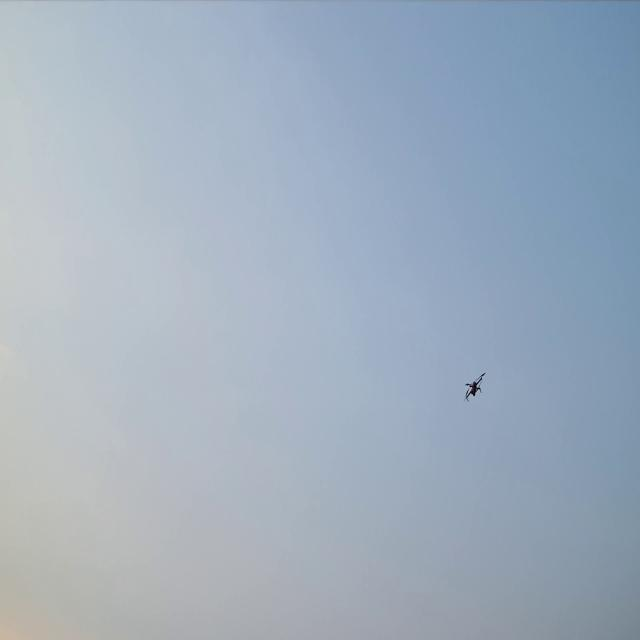UAV: (466, 374, 484, 399)
